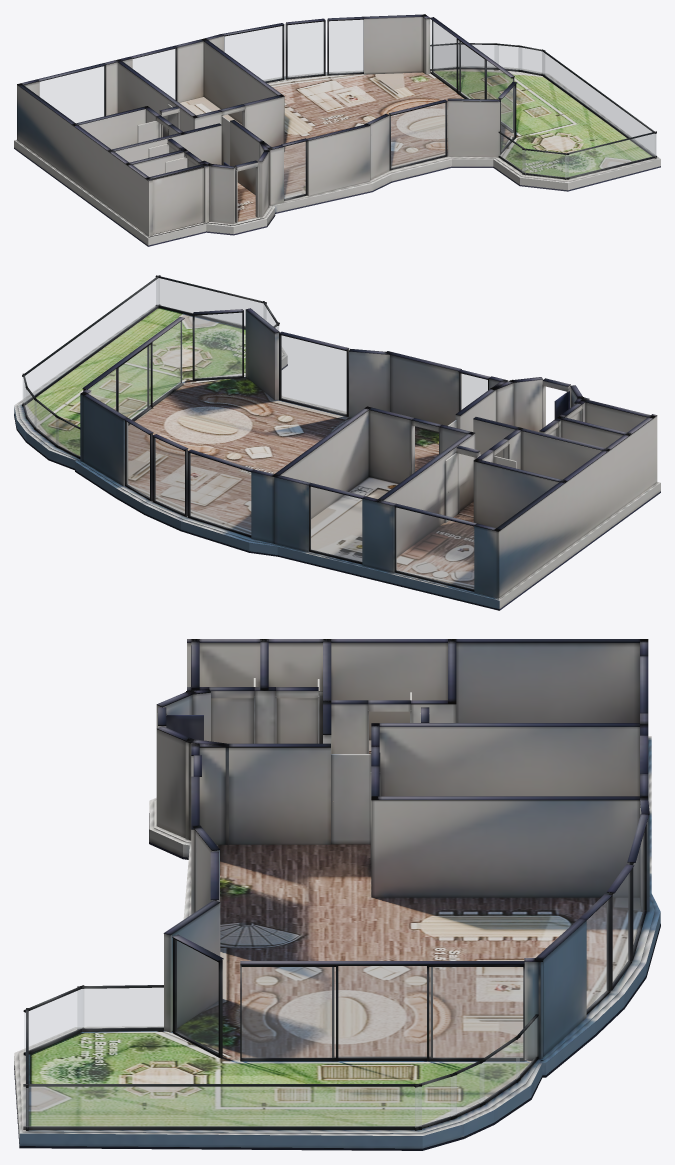
3 views of the same model, one above another, from view 1: azimuth 30°, elevation 25°; view 2: azimuth 150°, elevation 25°; view 3: azimuth 270°, elevation 25° (orthographic). The views are drawn at different scales.
Visible parts, largest first — view 1: plan, glass5_m, glass6_m, glass0_m, railg4_m, glass2_m, railg5_m, glass3_m, glass4_m, glass1_m, glass7_m, railg6_m (+6 smaller); view 2: plan, glass0_m, glass5_m, glass6_m, glass2_m, railg4_m, glass1_m, glass8_m, railg5_m, glass3_m, glass4_m, railg1_m (+2 smaller); view 3: plan, glass5_m, railg4_m, glass8_m, railg7_m, railg6_m, glass4_m, railg3_m, railg1_m, glass3_m, railg2_m, glass2_m (+1 smaller).
Boxes of the visible parts, x1,y1,x2,y2 form: plan: (14, 14, 660, 246); glass5_m: (431, 20, 512, 130); glass6_m: (391, 103, 445, 168); glass0_m: (40, 66, 104, 122); railg4_m: (542, 52, 655, 156); glass2_m: (224, 26, 282, 81); railg5_m: (565, 134, 656, 177); glass3_m: (288, 22, 323, 77); glass4_m: (329, 20, 363, 73); glass1_m: (133, 49, 175, 99); glass7_m: (284, 142, 305, 198); railg6_m: (522, 150, 568, 177); plan: (14, 275, 660, 610); glass0_m: (396, 508, 473, 589); glass5_m: (88, 321, 182, 419); glass6_m: (281, 335, 346, 413); glass2_m: (190, 453, 250, 535); railg4_m: (23, 278, 159, 403); glass1_m: (310, 487, 361, 561); glass8_m: (195, 313, 241, 378); railg5_m: (156, 278, 265, 325); glass3_m: (155, 438, 184, 513); glass4_m: (126, 422, 149, 497); railg1_m: (34, 400, 58, 445); plan: (14, 639, 660, 1150); glass5_m: (242, 966, 522, 1057); railg4_m: (23, 1087, 421, 1126); glass8_m: (176, 940, 218, 1053); railg7_m: (78, 988, 163, 1028); railg6_m: (24, 989, 83, 1052); glass4_m: (587, 901, 607, 1010); railg3_m: (415, 1075, 456, 1127); railg1_m: (480, 1038, 519, 1103); glass3_m: (613, 873, 629, 983); railg2_m: (451, 1062, 484, 1116); glass2_m: (633, 832, 644, 948).
Size of the model in its own units: 19.87 by 2.62 by 13.58.
2 materials, 1 textured.
